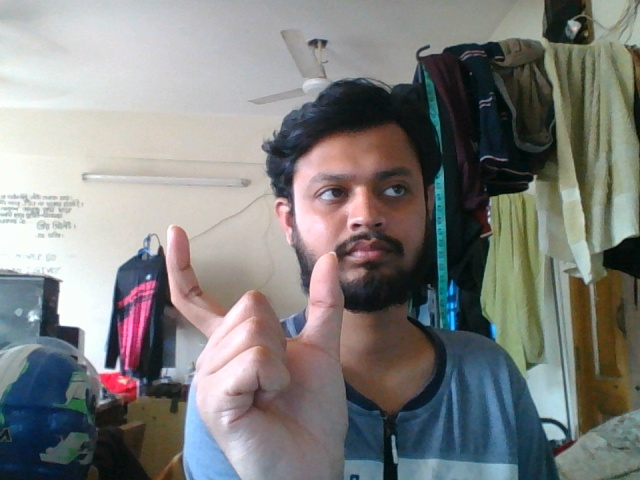chandrobindu: (157, 219, 360, 480)
